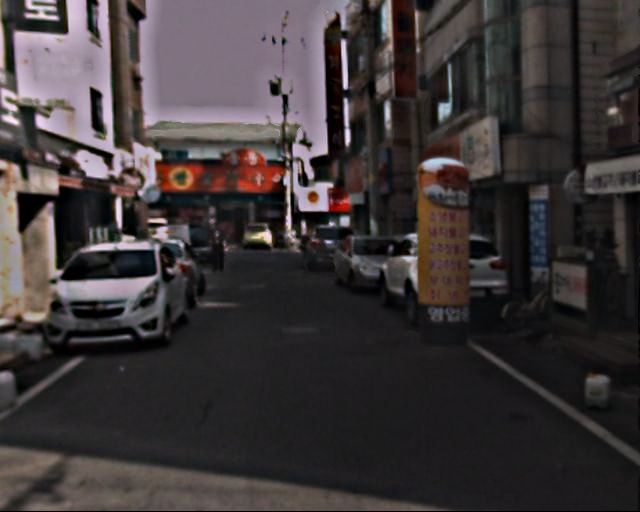person: (207, 221, 233, 276)
